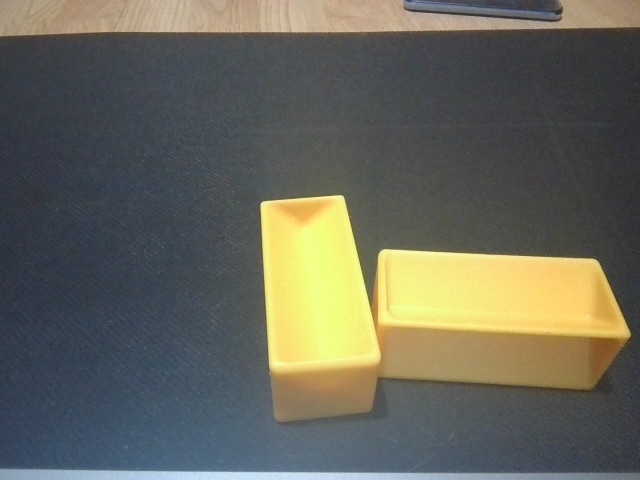YellowSample: (370, 245, 633, 397), (249, 191, 382, 424)
